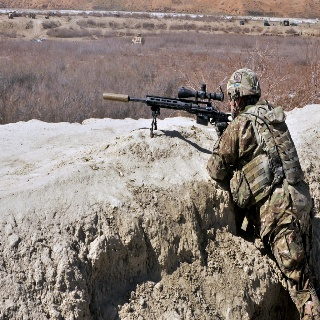rifle: (102, 82, 230, 140)
